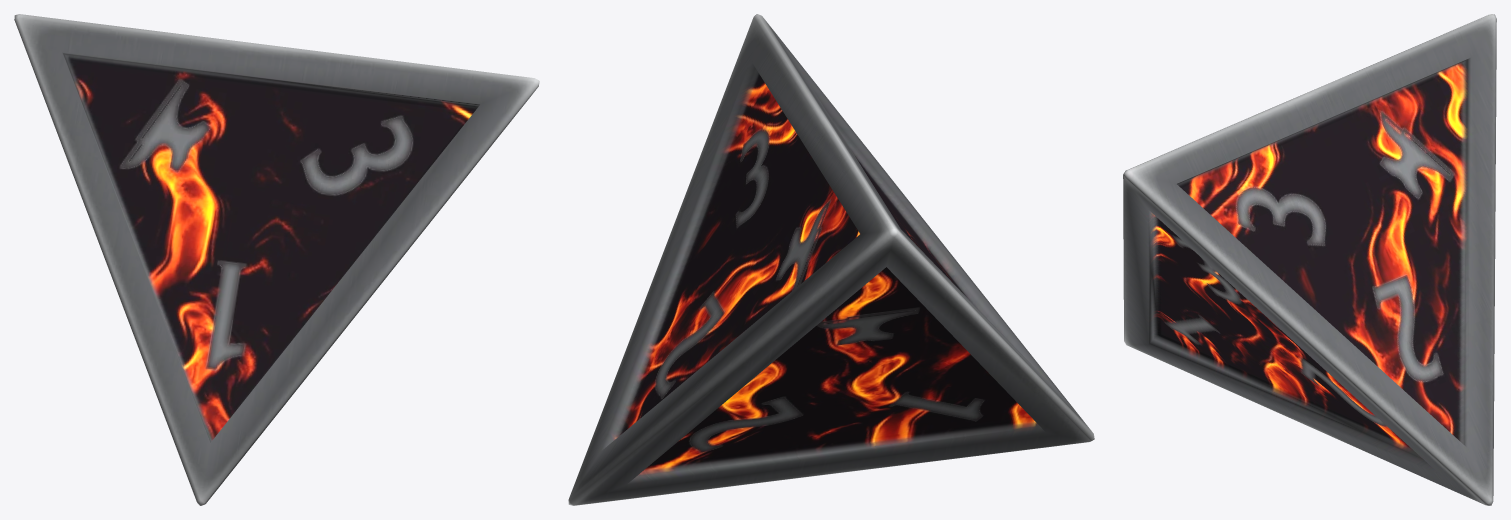
Rendered from dice_4.gltf.
3 views of the same model, side by side, from view 1: azimuth 30°, elevation 25°; view 2: azimuth 150°, elevation 25°; view 3: azimuth 270°, elevation 25° (orthographic). The views are drawn at different scales.
Visible parts, largest first — view 1: dice_4; view 2: dice_4; view 3: dice_4.
Boxes of the visible parts, <box> form: dice_4: <box>14,14,539,505</box>; dice_4: <box>568,14,1094,505</box>; dice_4: <box>1123,14,1496,505</box>.
Bounding box in the file's own units: 138 × 138 × 137.
Materials: 1 (1 with a texture image).
